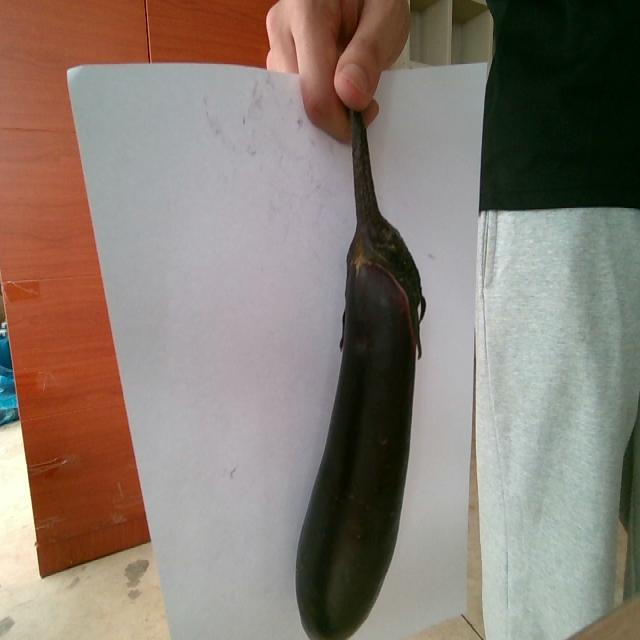Egg plant: (296, 112, 424, 637)
